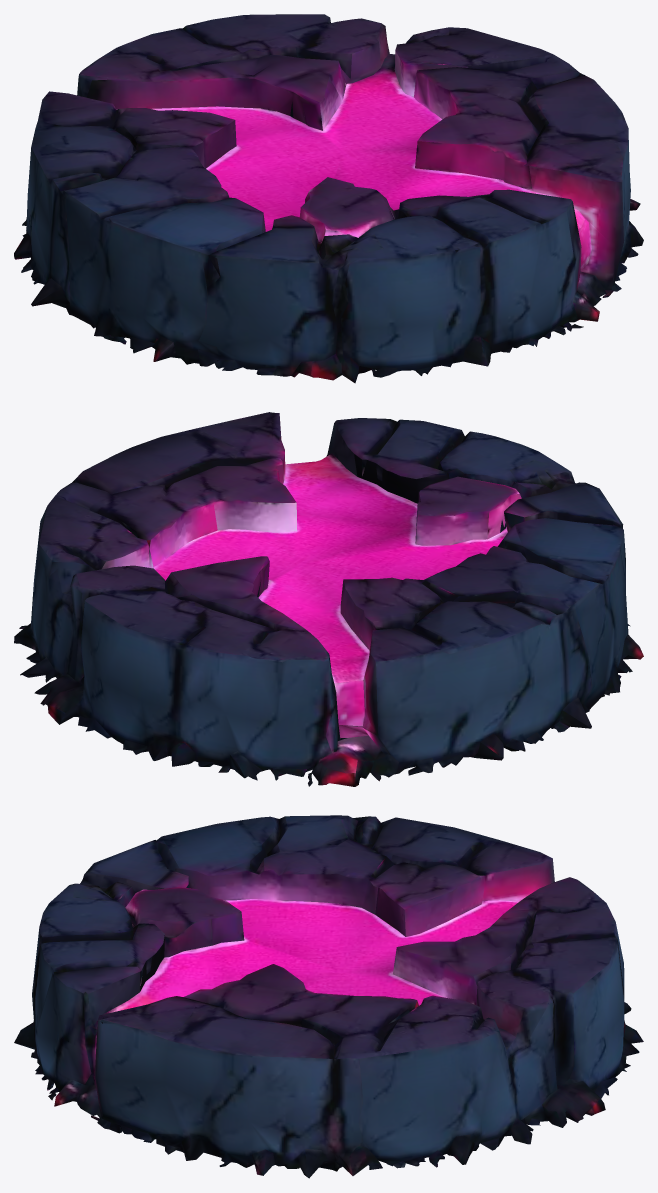
The model's file is yggdrasil-ground.collider.glb.
3 views of the same model, one above another, from view 1: azimuth 30°, elevation 25°; view 2: azimuth 150°, elevation 25°; view 3: azimuth 270°, elevation 25° (orthographic). The views are drawn at different scales.
Visible parts, largest first — view 1: temp_mesh.ply; view 2: temp_mesh.ply; view 3: temp_mesh.ply.
Boxes of the visible parts, bbox=[...] form: temp_mesh.ply: bbox=[14, 14, 643, 383]; temp_mesh.ply: bbox=[14, 412, 643, 786]; temp_mesh.ply: bbox=[14, 815, 643, 1178].
Size of the model in its own units: 1.97 by 0.4095 by 1.97.
1 material, 1 textured.
